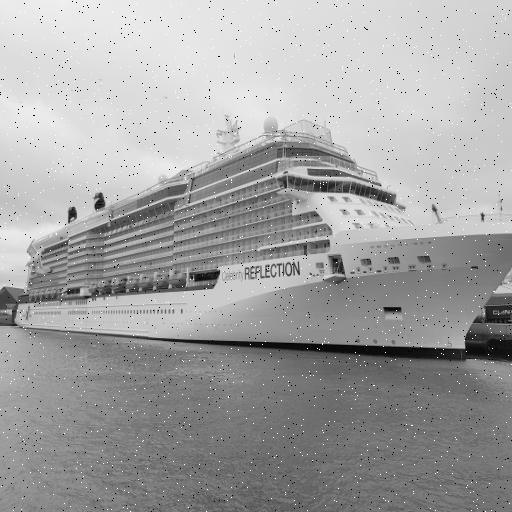cruises: (12, 110, 512, 370)
